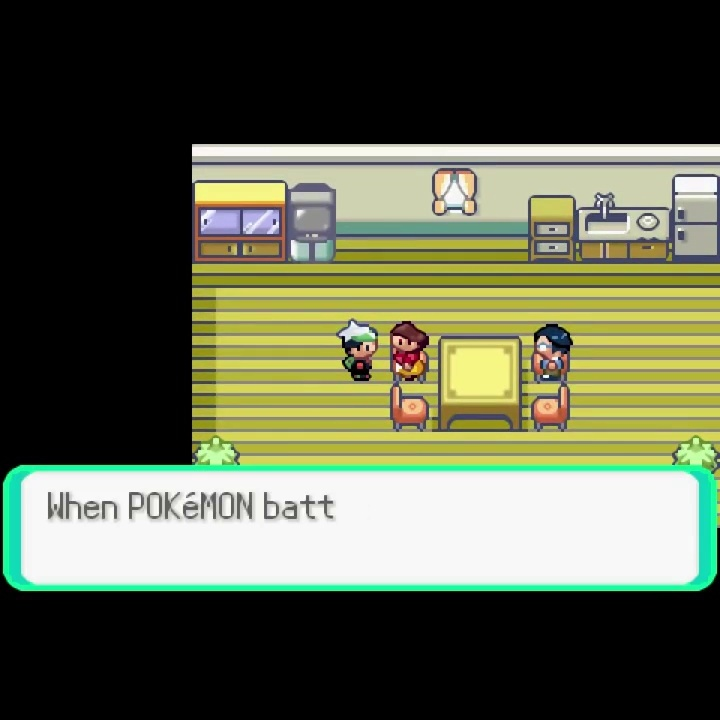agent: (336, 314, 383, 387)
npc: (530, 320, 575, 384), (388, 318, 430, 383)
